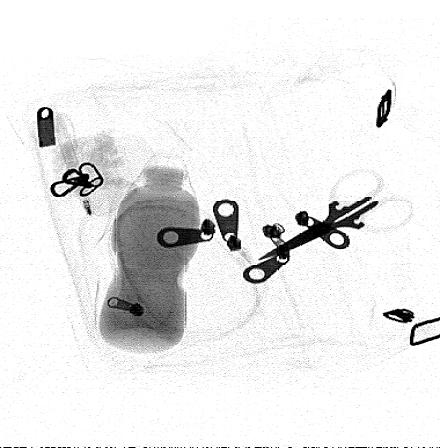Scissors: (253, 163, 419, 267)
